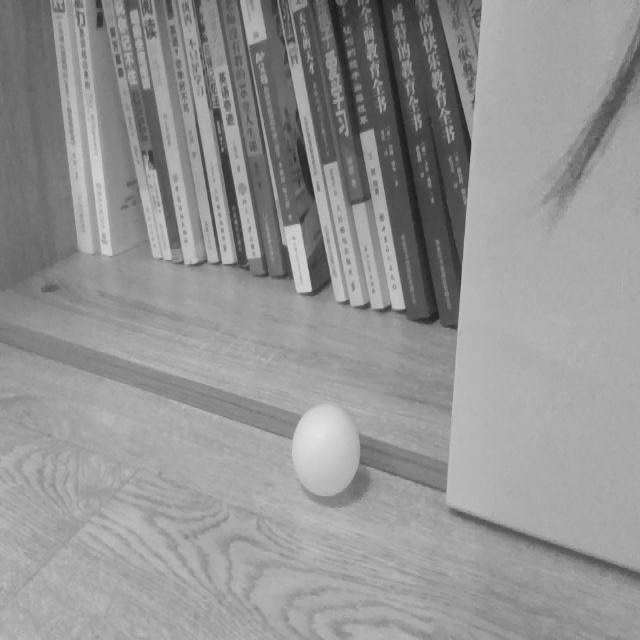ping-pong-ball: (292, 409, 358, 495)
